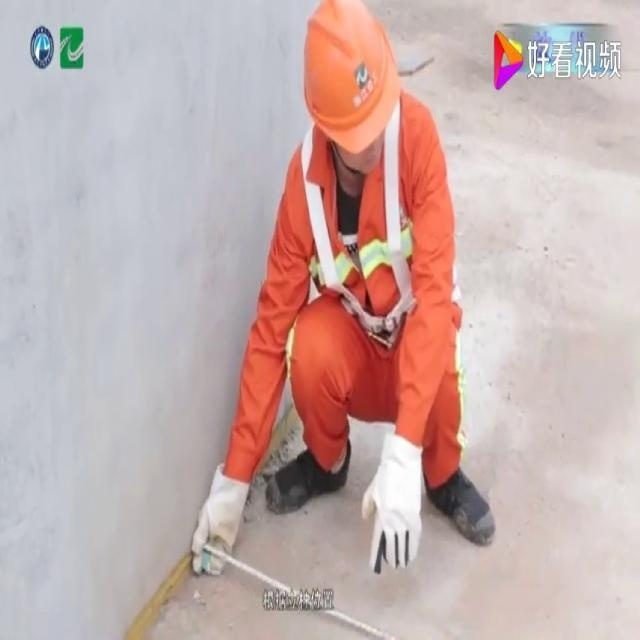Arnes_seguridad: (292, 88, 423, 359)
